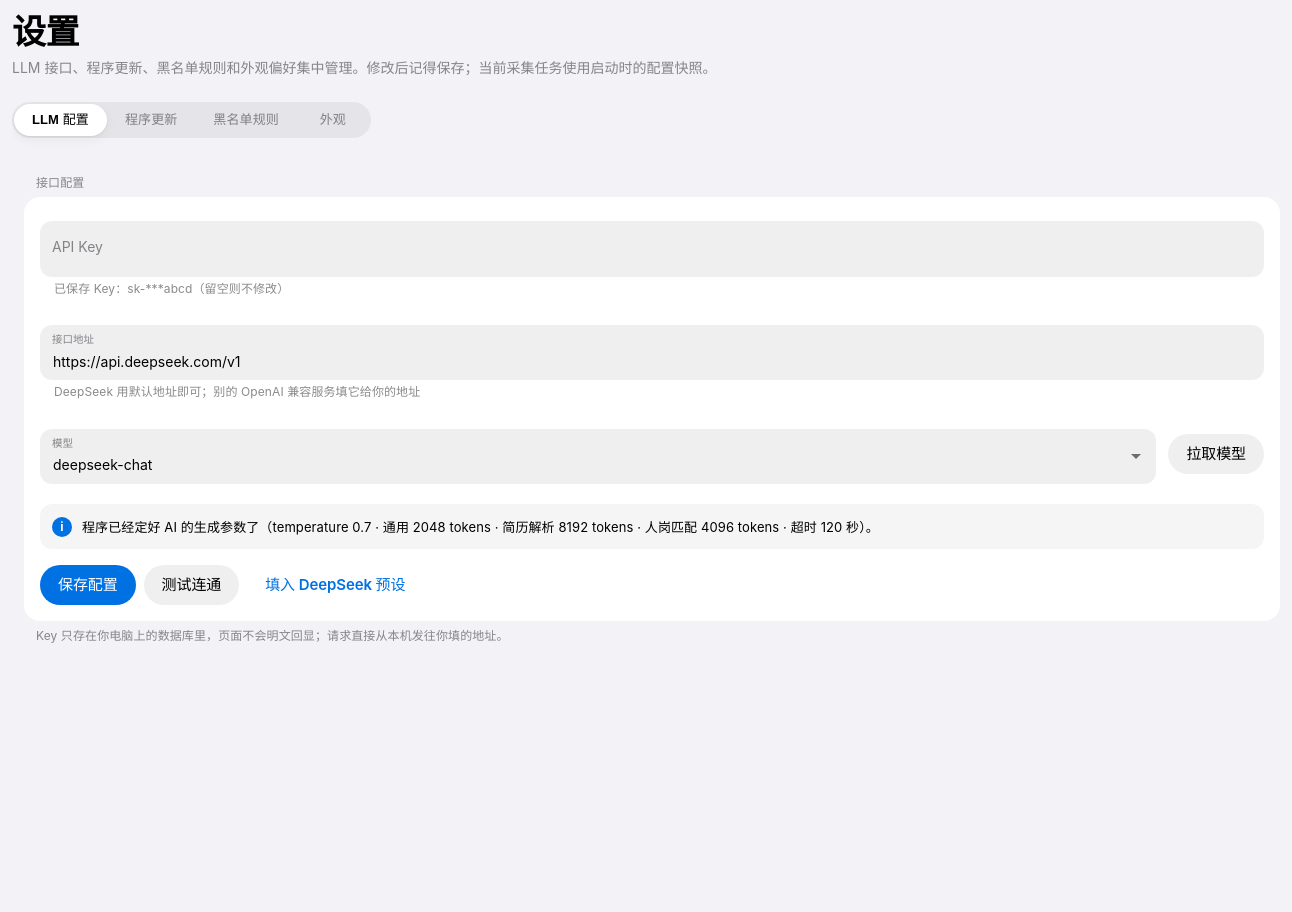
Test: SettingsPage LLM 配置 › 测试失败也是 200 带人话：message 走 danger 行内提示
expect the field showing "https://api.deepseek.com/v1" is shown: met, box [41,326,1263,379]
Click the button "测试连通" at (191, 585), box [144,565,239,605]
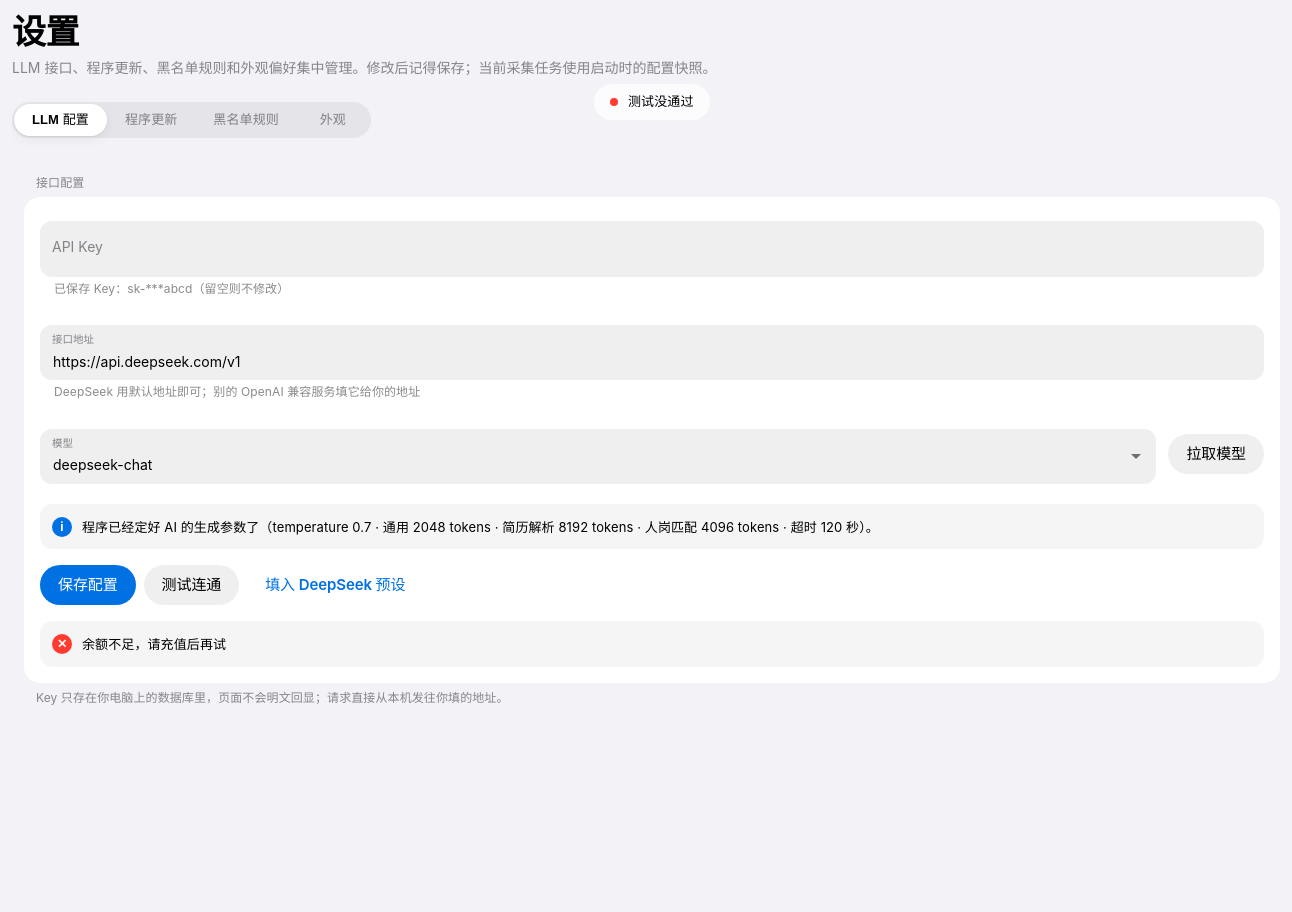
expect the text "余额不足，请充值后再试" is shown: met, box [82,633,226,655]
